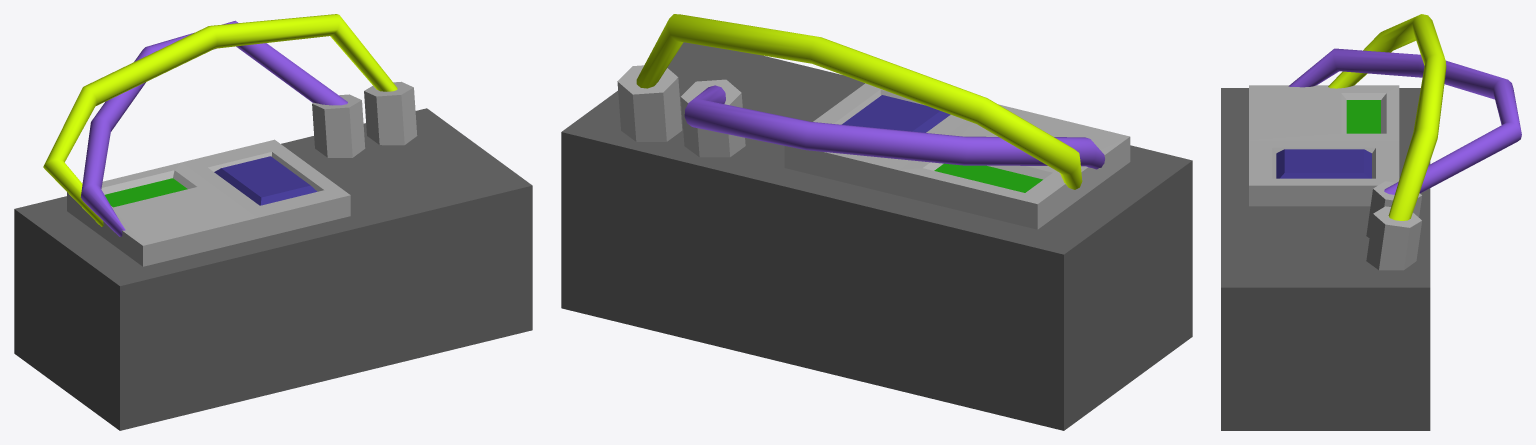
File: BOOM_BOX.glb
3 renders of one model, left to right at view 1: azimuth 30°, elevation 25°; view 2: azimuth 150°, elevation 25°; view 3: azimuth 270°, elevation 25°, orthographic. The views are drawn at different scales.
Parts seen in each view (by area): view 1: Cube; view 2: Cube; view 3: Cube.
Boxes of the visible parts, x1,y1,x2,y2 form: Cube: (14,14,532,430); Cube: (561,14,1192,430); Cube: (1221,14,1521,430).
Bounding box in the file's own units: 0.678 × 0.4338 × 0.4322.
Materials: 1 (1 with a texture image).
